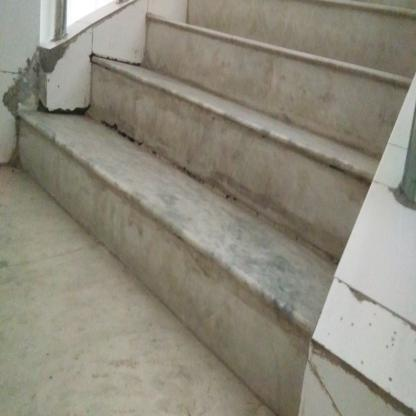stairs: (153, 46, 251, 401)
